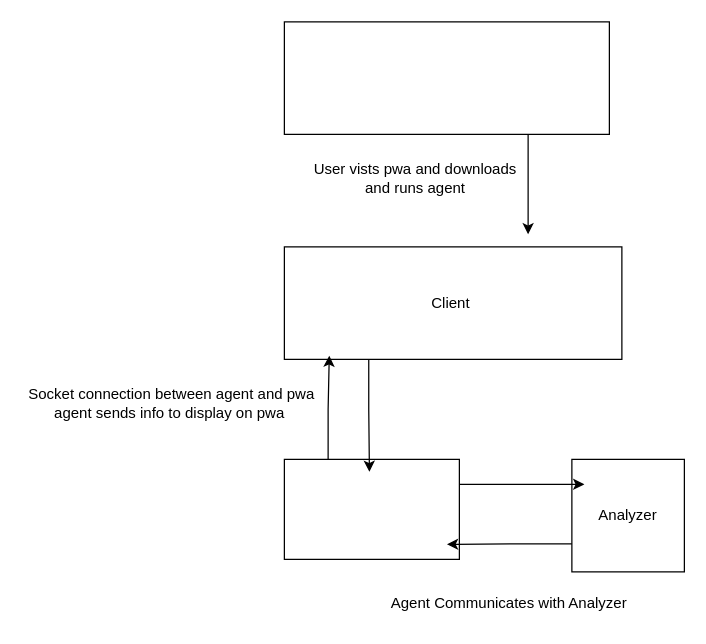
This 706x644 diagram has some shape labels left out. The shapes that lost their labels are listed below. From the top down, each one's centre as x and y in pixels, then its label:
(x=446, y=77): Client Download agent
(x=371, y=508): Agent
